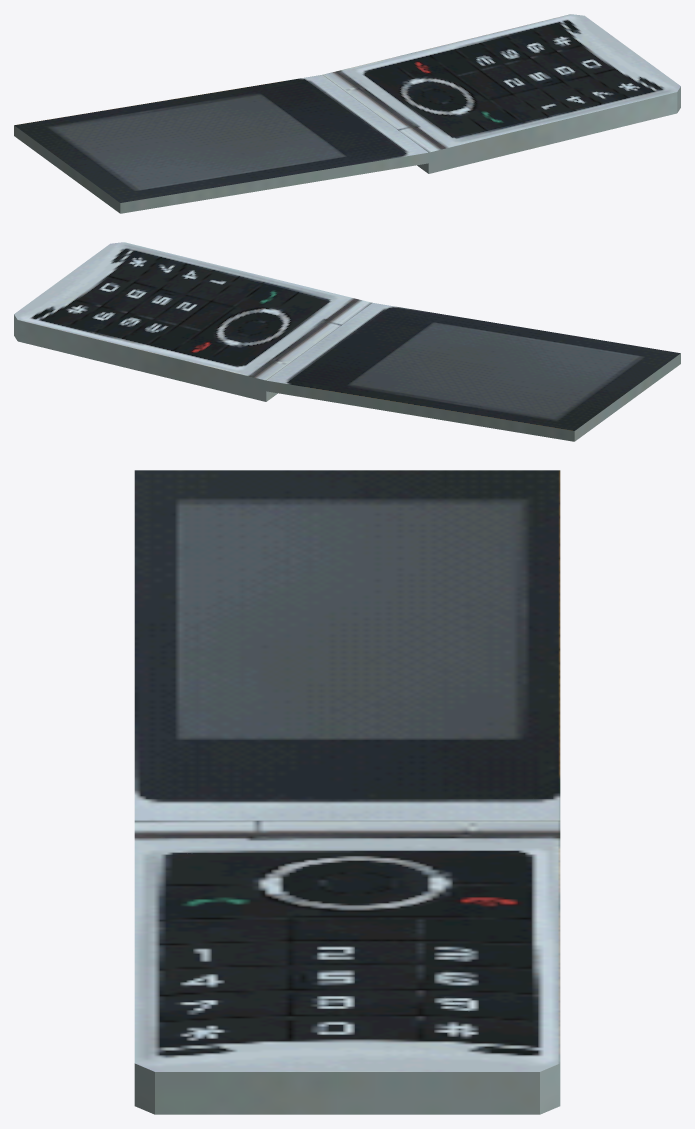
The model's file is Flip_Phone.fbx.
3 renders of one model, top to bottom at view 1: azimuth 30°, elevation 25°; view 2: azimuth 150°, elevation 25°; view 3: azimuth 270°, elevation 25°, orthographic. The views are drawn at different scales.
Parts seen in each view (by area): view 1: Flip_Phone; view 2: Flip_Phone; view 3: Flip_Phone.
Boxes of the visible parts, left/top/right/bottom form: Flip_Phone: left=14, top=14, right=680, bottom=213; Flip_Phone: left=14, top=242, right=680, bottom=441; Flip_Phone: left=134, top=470, right=560, bottom=1114.
Size of the model in its own units: 16.67 by 1.3 by 5.43.
